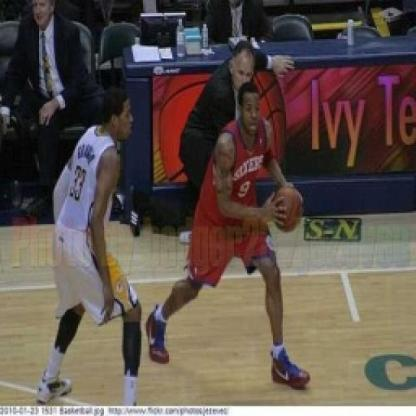basketball: (263, 179, 309, 238)
